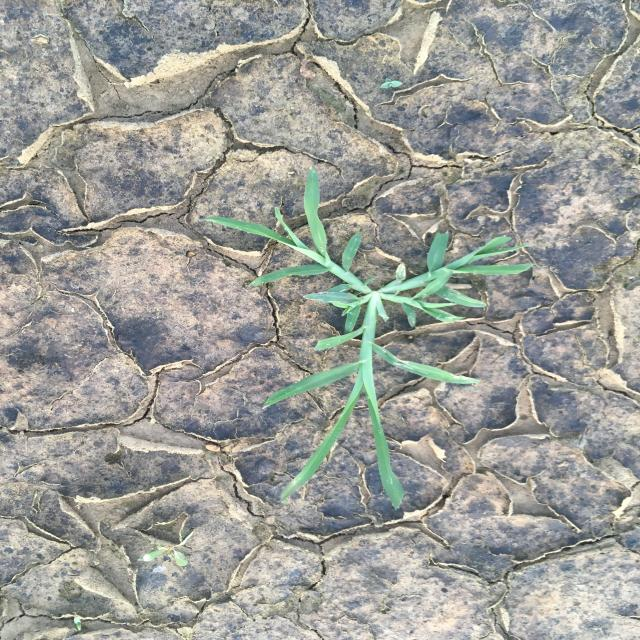Goosegrass: (194, 168, 536, 512)
